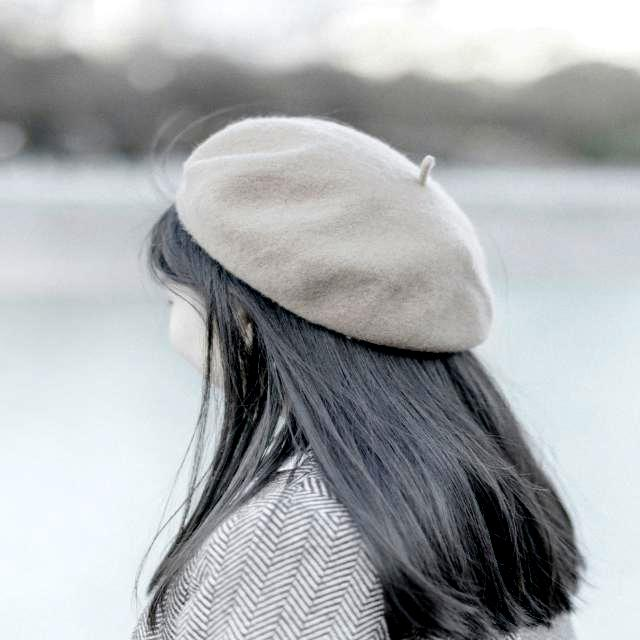no_hard_hat: (176, 117, 492, 353)
person: (134, 117, 584, 640)
